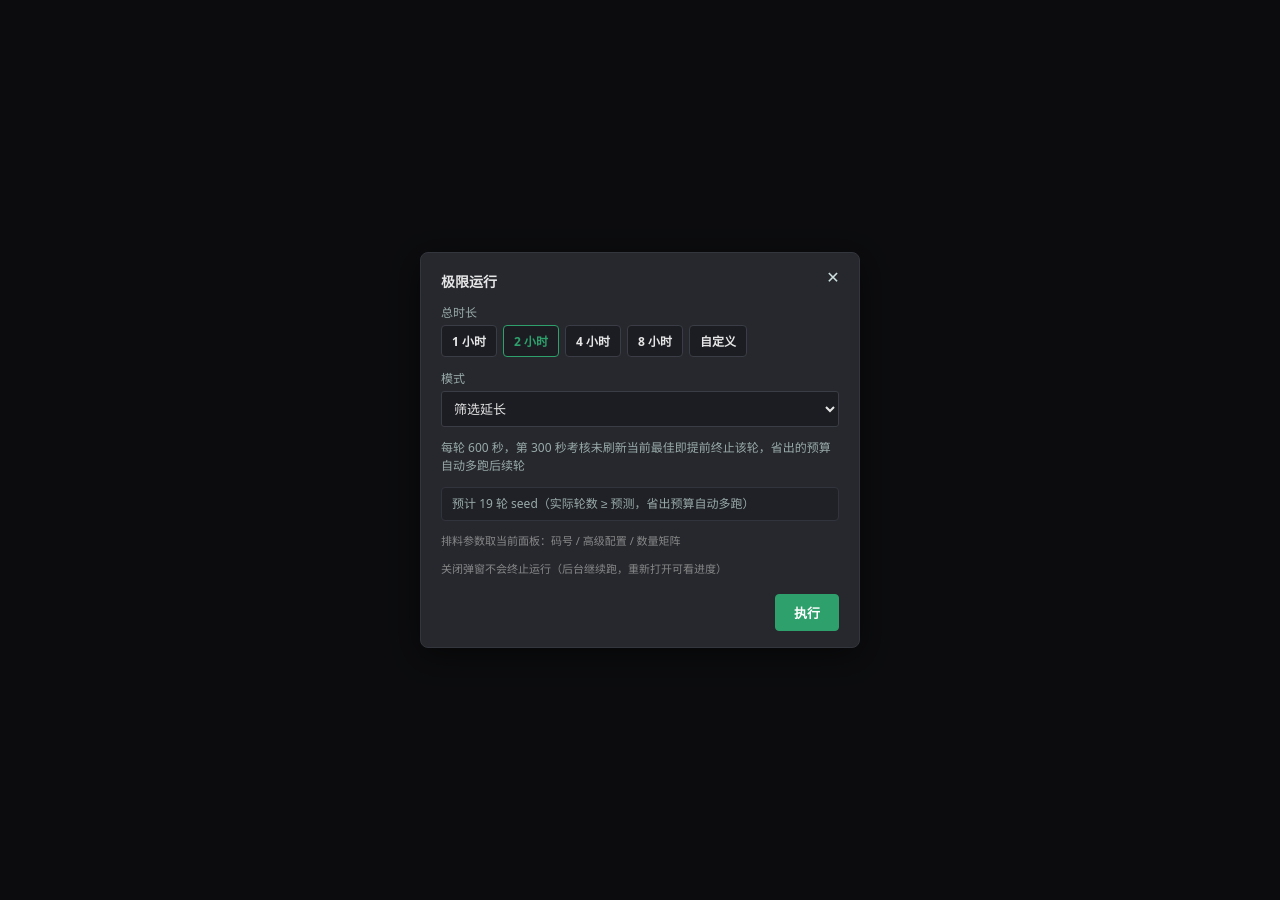
ExtremeRunModal (US-003) › 模式下拉（US-002 se 臂）：切筛选延长 → 说明行 / 轮数行切换（k 筛选 + 1 延长）；切回 race 复原
Select "筛选延长" in the dropdown with test id "extreme-mode" at {"x": 640, "y": 409}, box x1=441 y1=391 x2=839 y2=427
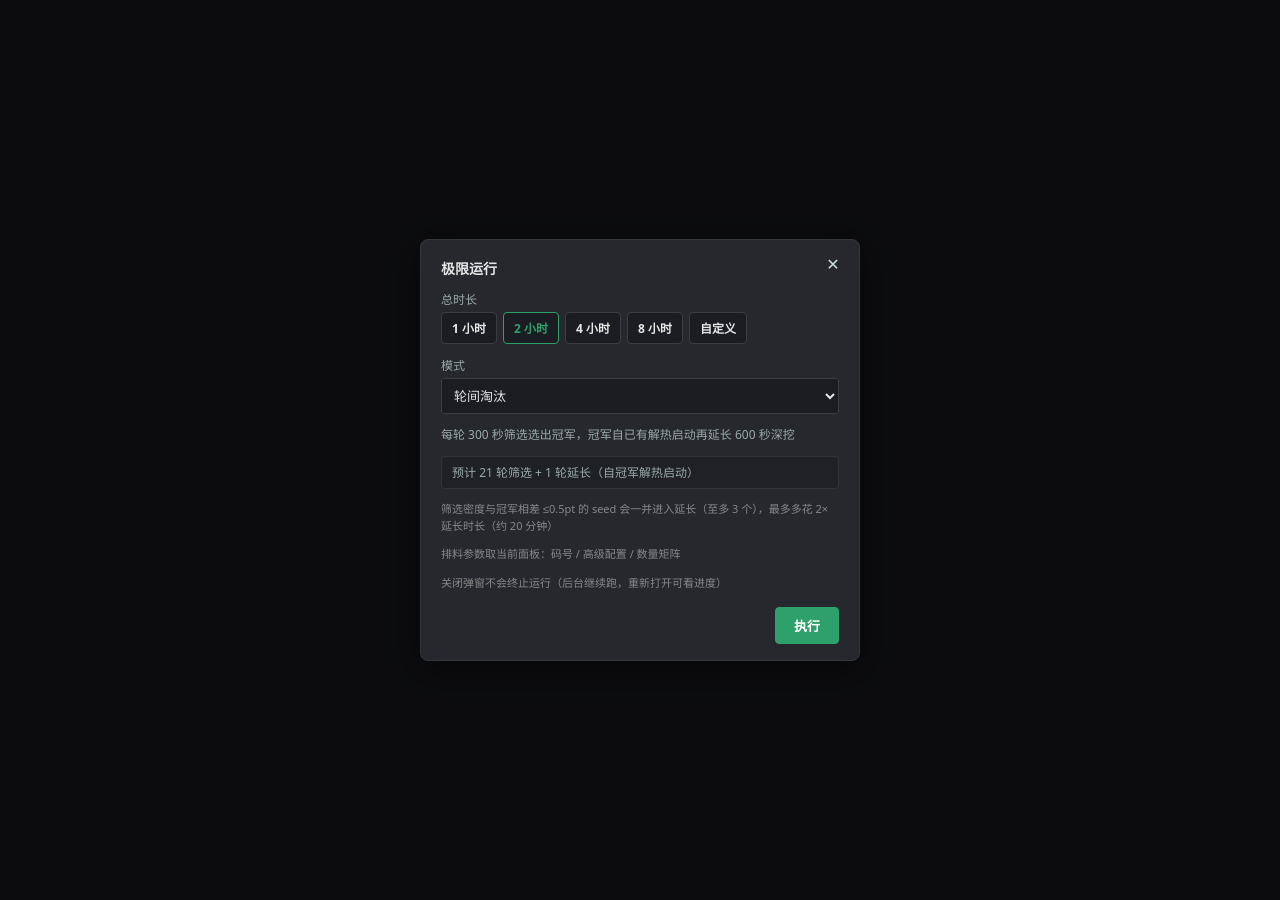
expect the text with test id "extreme-mode-desc" shows "热启动再延长 600 秒": met, box x1=441 y1=426 x2=795 y2=443
expect the text with test id "extreme-rounds" reads "预计 21 轮筛选 + 1 轮延长（自冠军解热启动）": met, box x1=441 y1=456 x2=839 y2=489
expect the text with test id "extreme-rounds" no longer shows "实际轮数 ≥ 预测": met
Select "轮间淘汰" in the dropdown with test id "extreme-mode" at {"x": 640, "y": 396}, box x1=441 y1=378 x2=839 y2=414
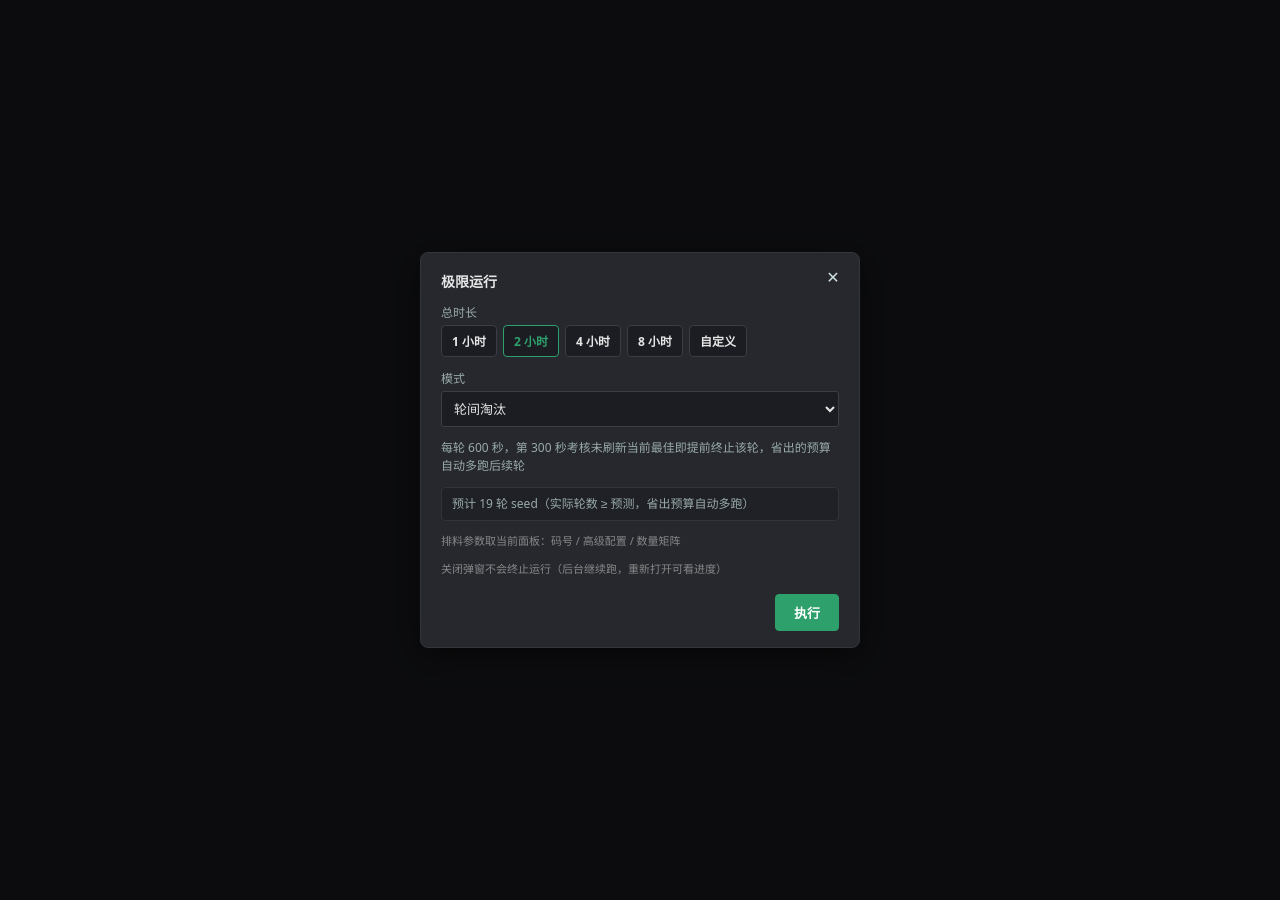
expect the text with test id "extreme-rounds" shows "预计 19 轮": met, box x1=441 y1=487 x2=839 y2=521
